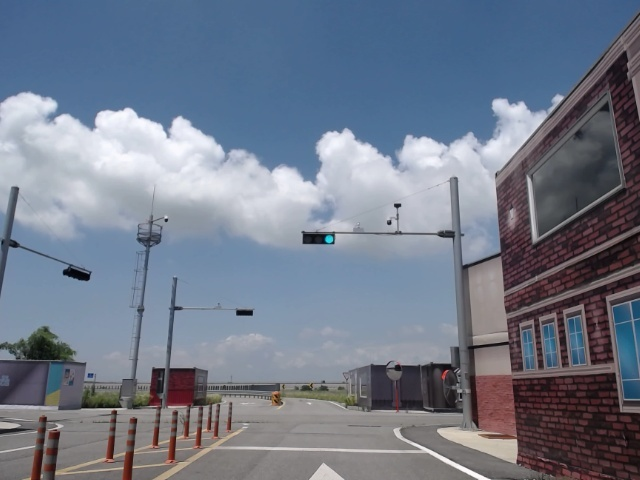green_3: (304, 233, 334, 243)
